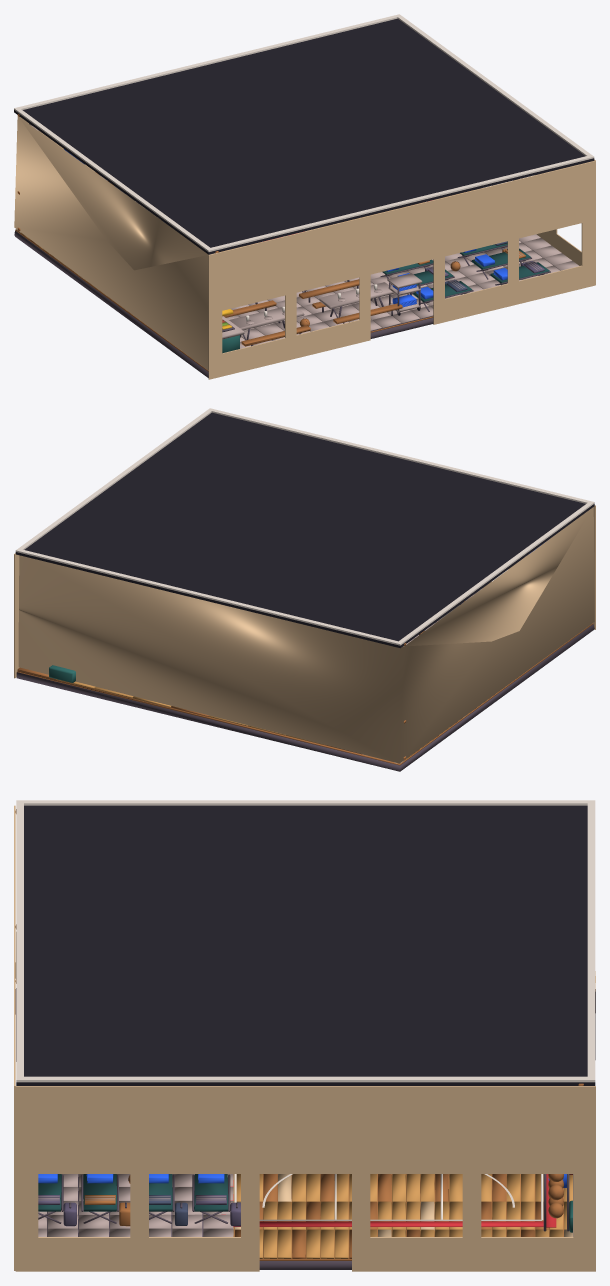
The model's file is bld.gym.lod1.glb.
The picture shows the model from 3 angles, top to bottom: view 1: azimuth 30°, elevation 25°; view 2: azimuth 150°, elevation 25°; view 3: azimuth 270°, elevation 25°; orthographic projection. The views are drawn at different scales.
Visible parts, largest first — view 1: roof, interior; view 2: roof, interior; view 3: roof, interior.
Boxes of the visible parts, x1=… form: roof: x1=14, y1=14, x2=595, y2=379; interior: x1=14, y1=114, x2=578, y2=377; roof: x1=14, y1=408, x2=595, y2=678; interior: x1=16, y1=507, x2=594, y2=771; roof: x1=14, y1=800, x2=595, y2=1271; interior: x1=15, y1=809, x2=595, y2=1269.
Size of the model in its own units: 16.04 by 5.08 by 14.04.
